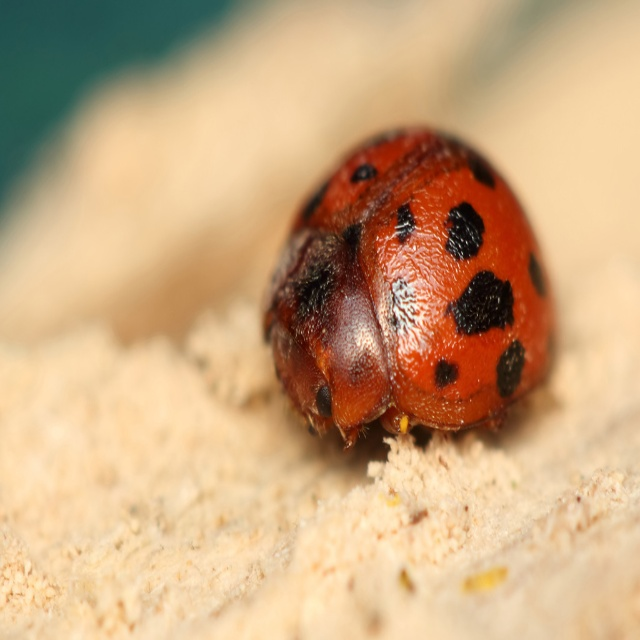Ladybug: (262, 124, 554, 445)
